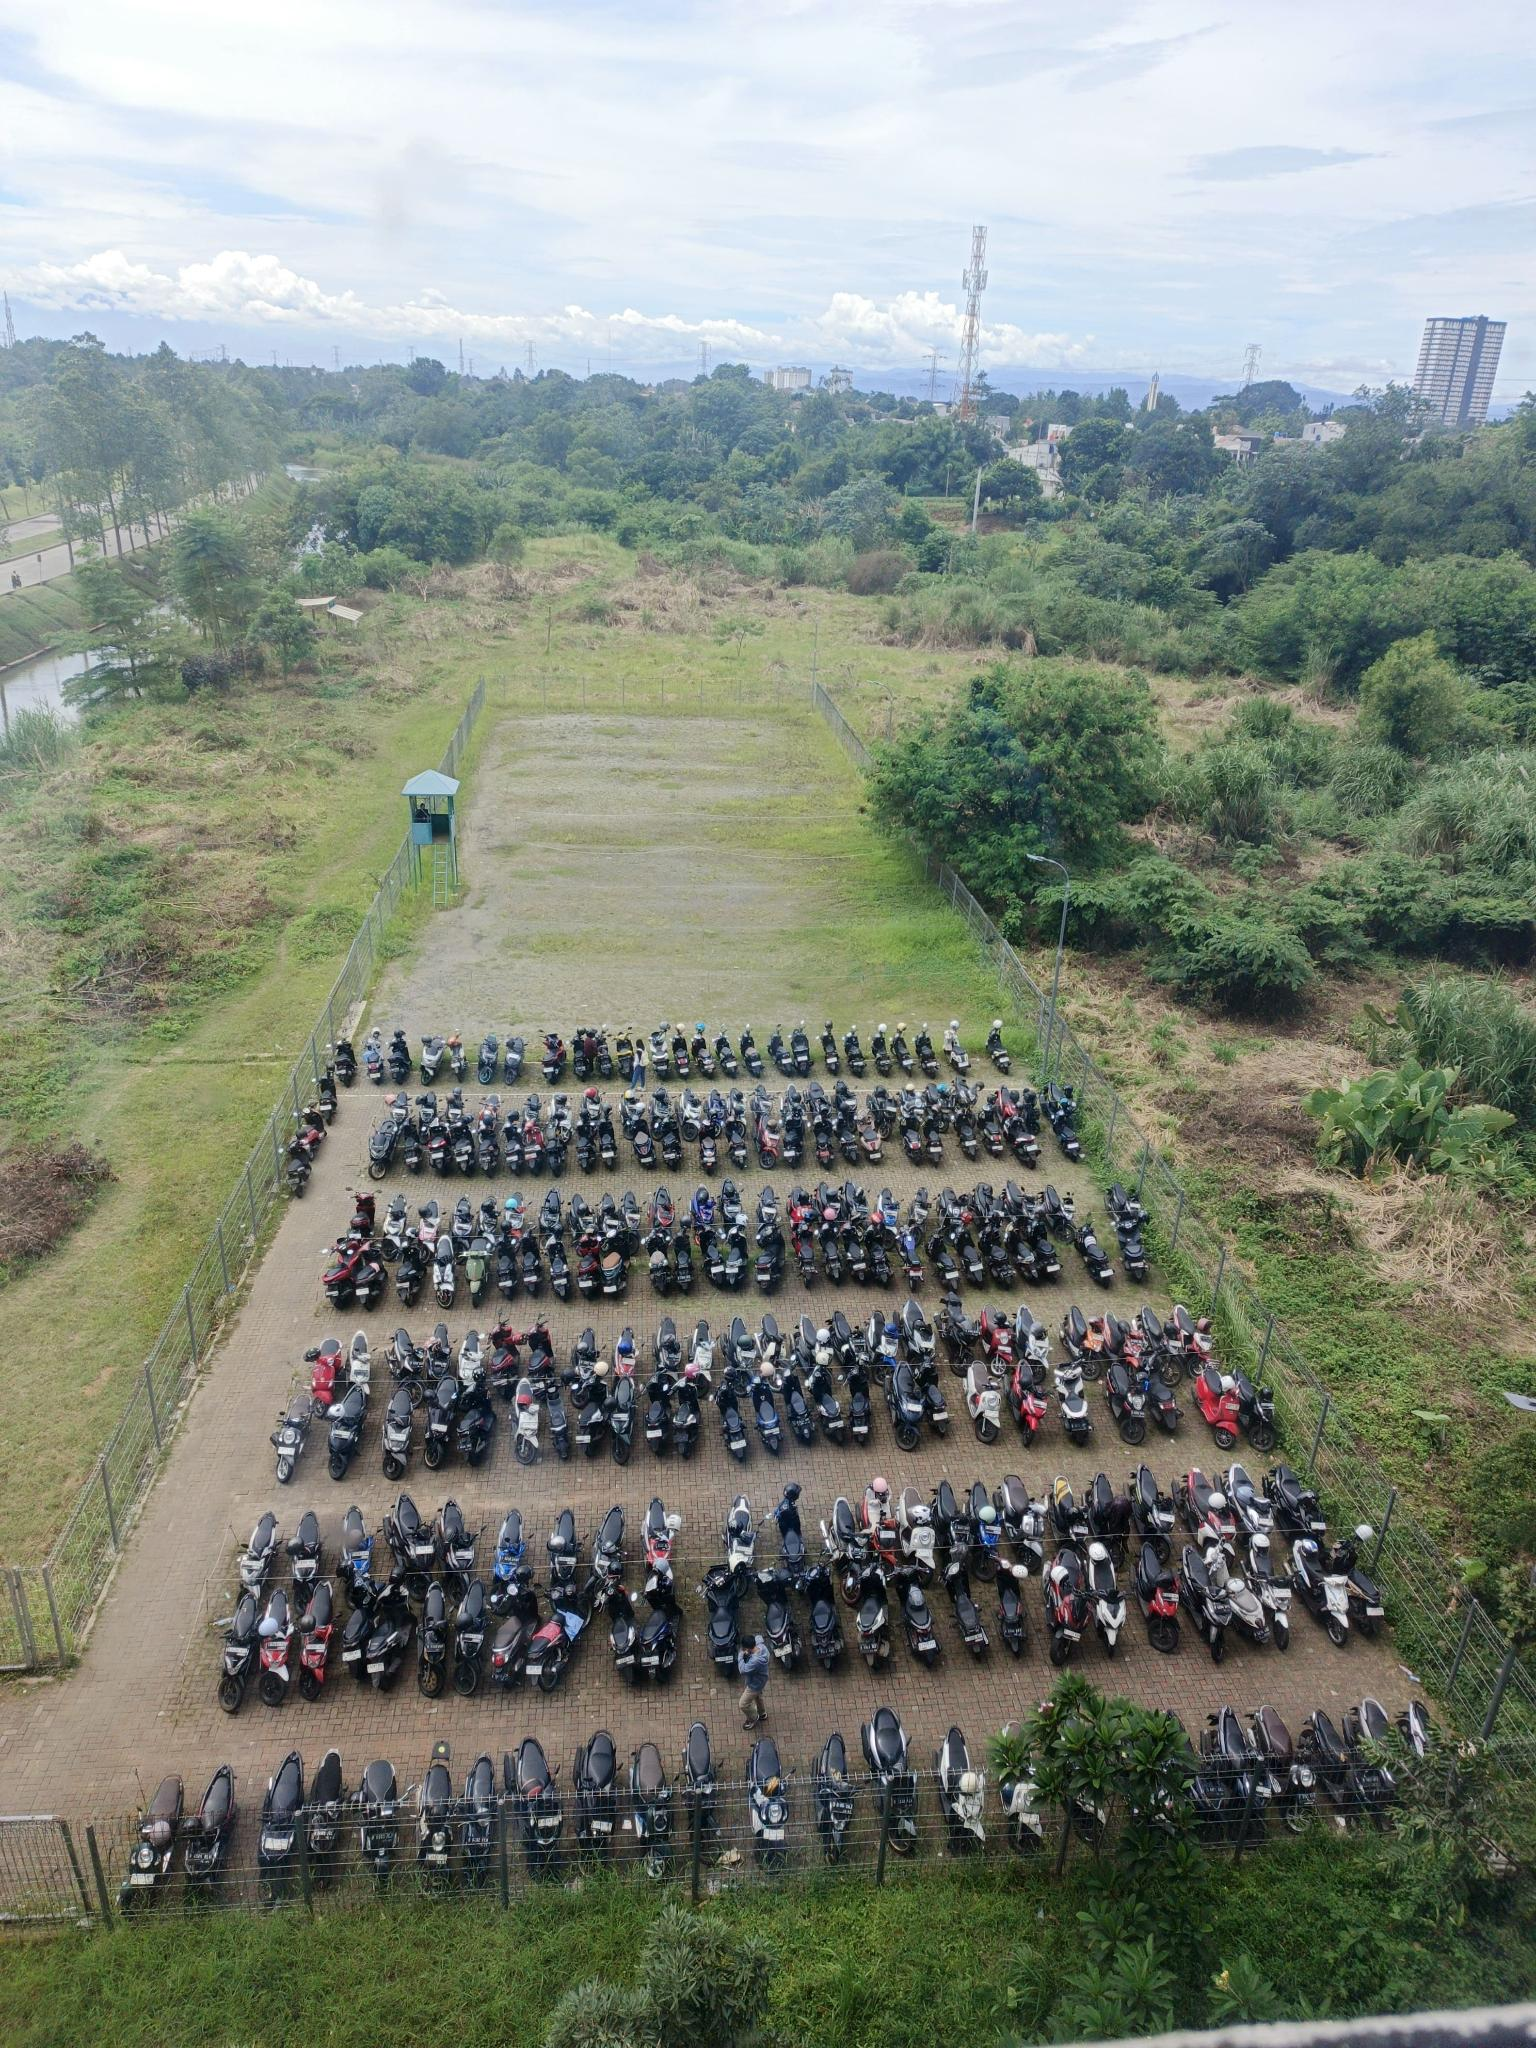motor: (108, 1767, 182, 1911), (857, 1705, 928, 1852), (499, 1733, 564, 1882), (180, 1762, 244, 1906), (251, 1745, 306, 1902), (927, 1724, 993, 1854), (676, 1718, 733, 1863), (347, 1749, 404, 1890), (529, 1577, 597, 1694), (571, 1728, 624, 1878), (627, 1736, 680, 1885), (742, 1734, 795, 1879), (804, 1731, 861, 1865), (408, 1735, 456, 1892), (459, 1750, 510, 1893), (1289, 1542, 1352, 1652), (1082, 1536, 1135, 1666), (1180, 1543, 1235, 1667), (302, 1743, 350, 1885), (1133, 1541, 1187, 1655), (638, 1562, 684, 1694), (942, 1554, 993, 1668), (1337, 1532, 1390, 1641), (1041, 1550, 1089, 1669), (748, 1562, 801, 1669), (801, 1558, 850, 1672), (897, 1560, 948, 1668), (1254, 1535, 1300, 1653), (597, 1573, 640, 1694), (1166, 1458, 1232, 1536), (852, 1562, 899, 1670), (699, 1559, 742, 1677), (1262, 1463, 1329, 1536), (376, 1490, 435, 1572), (368, 1587, 411, 1698), (991, 1549, 1034, 1659), (299, 1583, 338, 1703), (1190, 1365, 1244, 1451), (256, 1587, 293, 1712), (1099, 1362, 1152, 1449), (1212, 1459, 1276, 1531), (493, 1577, 531, 1695), (218, 1595, 252, 1719), (1125, 1462, 1175, 1545), (270, 1390, 314, 1483), (1240, 1364, 1283, 1456), (455, 1576, 486, 1703), (1051, 1364, 1097, 1448), (505, 1378, 547, 1469), (416, 1580, 447, 1702), (961, 1358, 1003, 1448), (327, 1385, 366, 1481), (885, 1365, 927, 1454), (994, 1472, 1047, 1542), (637, 1370, 676, 1465), (425, 1371, 458, 1482), (432, 1492, 478, 1571), (461, 1376, 500, 1469), (1009, 1359, 1049, 1449), (1192, 1701, 1256, 1757), (763, 1480, 811, 1554), (381, 1387, 417, 1485), (235, 1509, 284, 1580), (1231, 1580, 1275, 1657), (934, 1289, 981, 1361), (712, 1381, 753, 1463), (573, 1372, 611, 1460), (336, 1500, 381, 1574), (893, 1296, 941, 1364), (890, 1479, 938, 1547), (1148, 1357, 1187, 1440), (1292, 1694, 1344, 1755), (1075, 1218, 1117, 1293), (818, 1490, 868, 1553), (844, 1366, 880, 1452), (1084, 1464, 1130, 1531), (1040, 1468, 1086, 1535), (811, 1367, 848, 1450), (606, 1377, 639, 1470), (670, 1373, 704, 1463), (1247, 1696, 1296, 1758), (928, 1478, 972, 1547), (307, 1336, 344, 1417), (1011, 1299, 1055, 1367), (341, 1579, 369, 1684), (284, 1508, 326, 1577), (320, 1238, 359, 1312), (786, 1305, 834, 1365), (721, 1489, 763, 1557), (637, 1491, 679, 1559), (1057, 1303, 1106, 1361), (1390, 1694, 1439, 1752), (974, 1300, 1016, 1367), (781, 1371, 818, 1447), (979, 1222, 1018, 1293), (1115, 1214, 1152, 1287), (1340, 1694, 1390, 1748), (749, 1378, 784, 1455), (542, 1498, 581, 1567), (1004, 1218, 1044, 1285), (491, 1503, 531, 1568), (600, 1229, 634, 1305), (952, 1223, 990, 1291), (1132, 1299, 1178, 1355), (392, 1239, 426, 1312), (969, 1471, 1002, 1546), (1042, 1179, 1077, 1249), (460, 1237, 494, 1309), (1031, 1216, 1065, 1288), (546, 1382, 574, 1468), (916, 1376, 952, 1442), (1101, 1303, 1143, 1359), (827, 1307, 869, 1363), (383, 1327, 428, 1379), (357, 1238, 388, 1313), (589, 1499, 628, 1558), (1173, 1303, 1217, 1354), (896, 1223, 926, 1296), (717, 1312, 756, 1368), (1004, 1114, 1041, 1173), (754, 1223, 784, 1295), (484, 1316, 518, 1379), (927, 1232, 962, 1293), (517, 1230, 547, 1301), (648, 1315, 686, 1371), (429, 1235, 457, 1310), (545, 1232, 575, 1302), (525, 1315, 559, 1376), (867, 1223, 896, 1294), (647, 1233, 675, 1306), (574, 1233, 603, 1303), (862, 1308, 900, 1361), (753, 1311, 790, 1365), (344, 1184, 382, 1236), (627, 1113, 658, 1176), (567, 1322, 603, 1376), (1050, 1109, 1084, 1166), (617, 1186, 645, 1255), (424, 1321, 456, 1381), (842, 1221, 870, 1289), (721, 1113, 752, 1174), (818, 1222, 845, 1292), (947, 1073, 984, 1124), (867, 1084, 900, 1141), (342, 1326, 376, 1381), (983, 1017, 1014, 1077), (838, 1179, 869, 1239), (285, 1138, 314, 1202), (522, 1111, 548, 1182), (538, 1026, 568, 1087), (545, 1110, 570, 1183), (658, 1111, 686, 1176), (810, 1112, 839, 1174), (368, 1118, 396, 1182), (610, 1320, 643, 1374), (572, 1108, 598, 1176), (684, 1316, 718, 1368), (476, 1116, 503, 1181), (724, 1224, 751, 1289), (495, 1236, 521, 1303), (671, 1228, 697, 1295), (793, 1223, 819, 1290), (778, 1111, 806, 1173), (501, 1111, 526, 1180), (953, 1104, 981, 1164), (942, 1021, 971, 1078), (857, 1110, 886, 1167), (1038, 1080, 1080, 1119), (998, 1176, 1041, 1214), (444, 1027, 472, 1085), (914, 1023, 942, 1081), (296, 1104, 326, 1158), (398, 1115, 425, 1175), (426, 1116, 452, 1178), (906, 1184, 932, 1246), (898, 1110, 924, 1171), (596, 1109, 621, 1172), (456, 1326, 485, 1380), (753, 1114, 780, 1171), (451, 1117, 476, 1177), (501, 1029, 527, 1086), (675, 1086, 701, 1143), (978, 1104, 1004, 1161), (331, 1037, 359, 1089), (834, 1112, 860, 1168), (697, 1118, 721, 1178), (419, 1034, 446, 1087), (386, 1028, 412, 1083), (700, 1228, 722, 1292), (766, 1028, 794, 1078), (812, 1180, 840, 1230), (448, 1194, 473, 1250), (645, 1183, 676, 1228), (892, 1022, 916, 1080), (618, 1085, 642, 1143), (717, 1175, 746, 1223), (363, 1026, 386, 1086), (535, 1185, 565, 1231), (476, 1029, 501, 1084), (925, 1109, 947, 1171), (692, 1022, 715, 1081), (789, 1025, 815, 1077), (786, 1182, 814, 1230), (687, 1182, 719, 1224), (843, 1025, 867, 1080), (648, 1023, 671, 1080), (968, 1180, 1002, 1218), (417, 1194, 445, 1240), (1102, 1180, 1141, 1213), (382, 1189, 411, 1233), (725, 1086, 750, 1136), (315, 1074, 340, 1124), (567, 1024, 588, 1083), (613, 1022, 634, 1081), (877, 1188, 898, 1247), (871, 1023, 893, 1079), (778, 1077, 806, 1121), (551, 1088, 573, 1144), (503, 1189, 529, 1236), (648, 1082, 670, 1137), (829, 1075, 862, 1111), (564, 1190, 593, 1230), (739, 1030, 763, 1078), (933, 1183, 969, 1215), (715, 1029, 738, 1079), (673, 1025, 693, 1082), (819, 1027, 843, 1074), (803, 1077, 834, 1113), (754, 1181, 780, 1223), (583, 1084, 606, 1131), (749, 1082, 778, 1119), (994, 1082, 1023, 1118), (477, 1091, 505, 1128), (475, 1194, 499, 1237), (701, 1082, 727, 1121), (594, 1025, 612, 1081), (441, 1086, 467, 1122), (595, 1188, 618, 1228), (385, 1086, 412, 1120), (920, 1080, 950, 1109), (520, 1090, 543, 1127), (415, 1088, 442, 1118), (898, 1081, 923, 1111), (927, 1229, 940, 1253)
